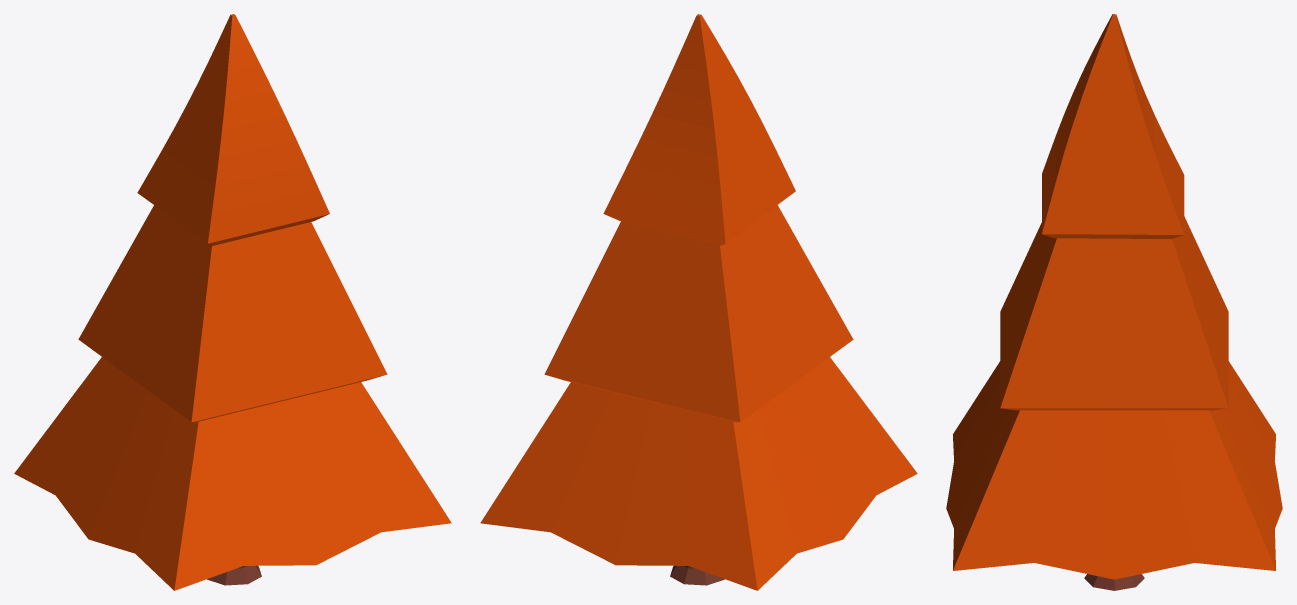
Rendered from Tree3.fbx.
3 views of the same model, side by side, from view 1: azimuth 30°, elevation 25°; view 2: azimuth 150°, elevation 25°; view 3: azimuth 270°, elevation 25° (orthographic).
Visible parts, largest first — view 1: Cube.004, Circle.001; view 2: Cube.004, Circle.001; view 3: Cube.004, Circle.001.
Part boxes in pixels (left/top/right/bottom): Cube.004: left=14, top=14, right=451, bottom=590; Circle.001: left=207, top=565, right=261, bottom=585; Cube.004: left=480, top=14, right=917, bottom=590; Circle.001: left=670, top=565, right=724, bottom=585; Cube.004: left=946, top=14, right=1282, bottom=579; Circle.001: left=1084, top=574, right=1144, bottom=590.
Bounding box in the file's own units: 208 × 385 × 208.
